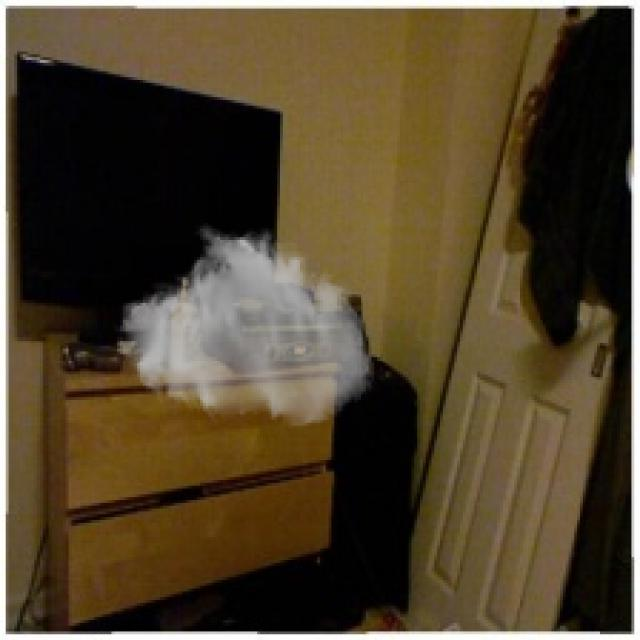smoke: (117, 223, 377, 428)
